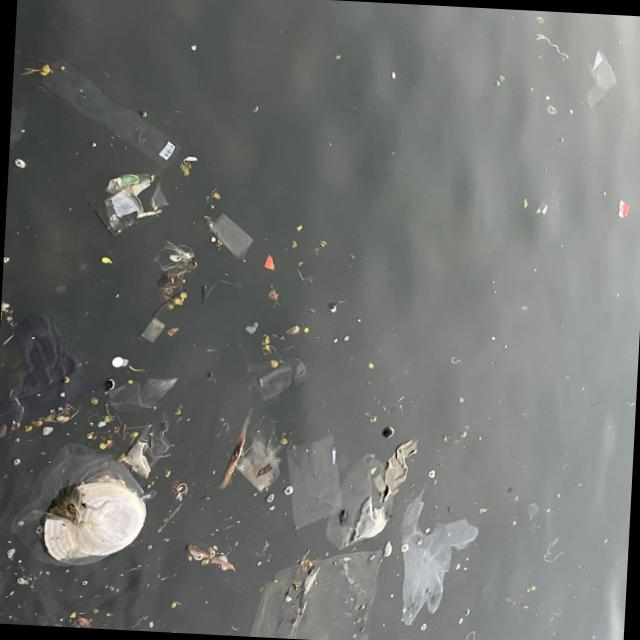foam: (42, 480, 146, 564)
plastic bottle: (10, 446, 148, 572), (38, 56, 186, 170), (248, 542, 387, 640), (395, 479, 481, 629), (323, 452, 396, 552), (282, 430, 344, 532), (104, 170, 170, 238), (235, 414, 285, 492), (106, 371, 176, 416), (374, 436, 418, 504), (245, 354, 306, 401), (122, 424, 172, 476), (205, 213, 252, 260), (582, 53, 616, 109), (138, 317, 166, 344), (544, 536, 564, 563), (617, 198, 629, 219), (262, 254, 274, 272), (526, 504, 537, 520), (452, 638, 474, 640)
unknow: (0, 314, 116, 445), (150, 240, 198, 296), (110, 357, 122, 368)
